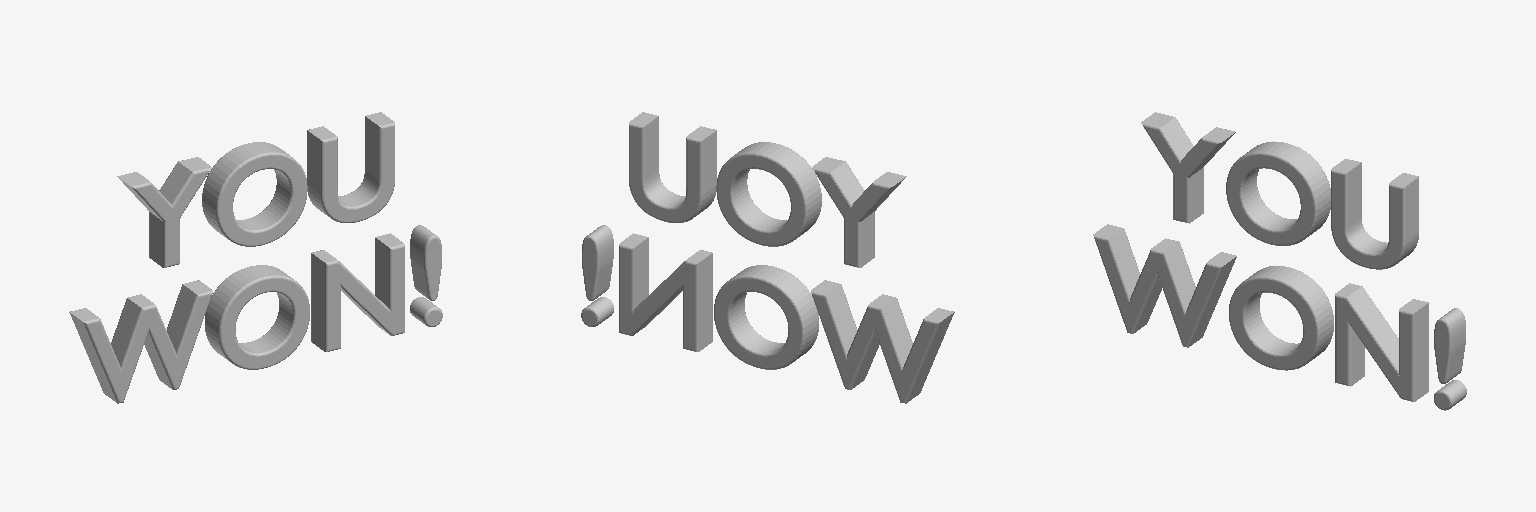
File: youwon.obj
3 renders of one model, left to right at view 1: azimuth 30°, elevation 25°; view 2: azimuth 150°, elevation 25°; view 3: azimuth 330°, elevation 25°, orthographic.
Bounding box in the file's own units: 3.04 × 1.74 × 0.24.